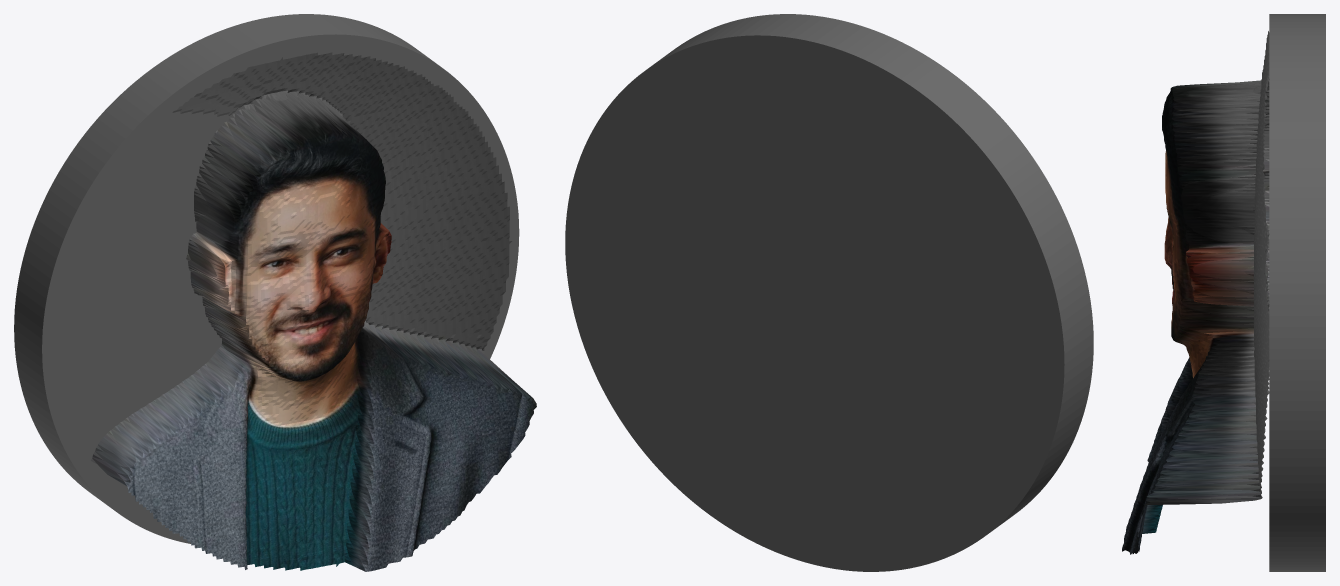
The model's file is portrait-glass.obj.
3 renders of one model, left to right at view 1: azimuth 30°, elevation 25°; view 2: azimuth 150°, elevation 25°; view 3: azimuth 270°, elevation 25°, orthographic. The views are drawn at different scales.
Parts seen in each view (by area): view 1: relief, casing; view 2: casing; view 3: relief, casing.
Part boxes in pixels (<box>): relief: <box>91,52,536,571</box>; casing: <box>14,14,519,543</box>; casing: <box>565,14,1093,571</box>; relief: <box>1122,31,1269,554</box>; casing: <box>1269,14,1325,571</box>.
Bounding box in the file's own units: 1.38 × 1.38 × 0.5034.
